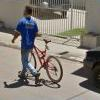bicycles: (18, 34, 64, 84)
